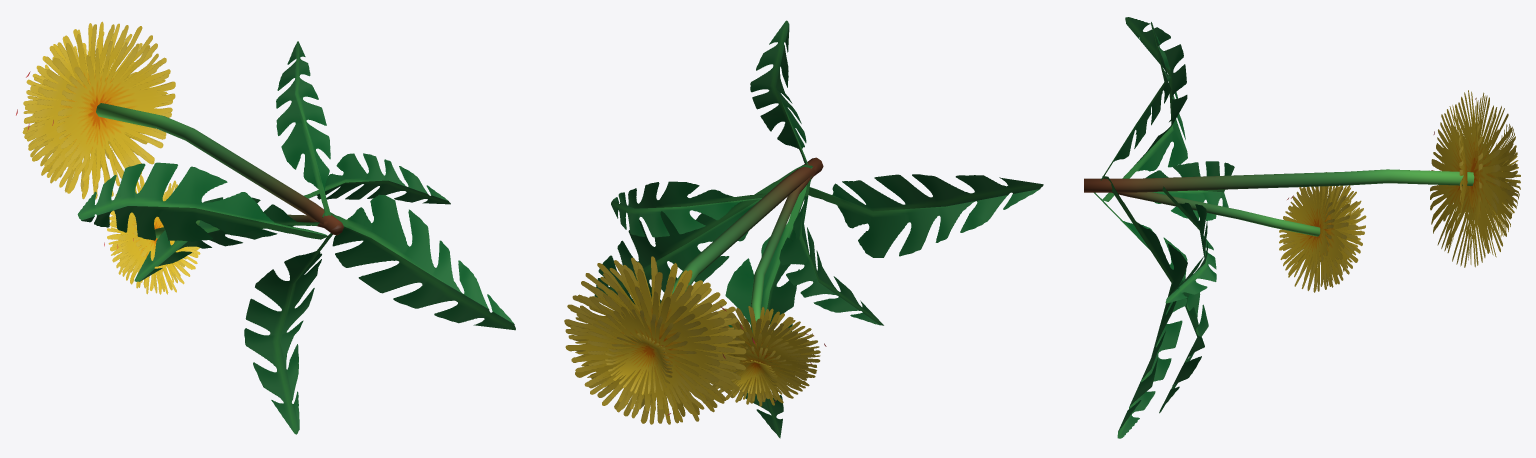
The model's file is SM_Dandelion_Double.fbx.
3 renders of one model, left to right at view 1: azimuth 30°, elevation 25°; view 2: azimuth 150°, elevation 25°; view 3: azimuth 270°, elevation 25°, orthographic. The views are drawn at different scales.
Parts seen in each view (by area): view 1: Dandelion_Double; view 2: Dandelion_Double; view 3: Dandelion_Double.
Boxes of the visible parts, x1,y1,x2,y2 form: Dandelion_Double: [16, 21, 515, 434]; Dandelion_Double: [564, 20, 1043, 438]; Dandelion_Double: [1084, 17, 1520, 438].
Size of the model in its own units: 171 by 149 by 146.
